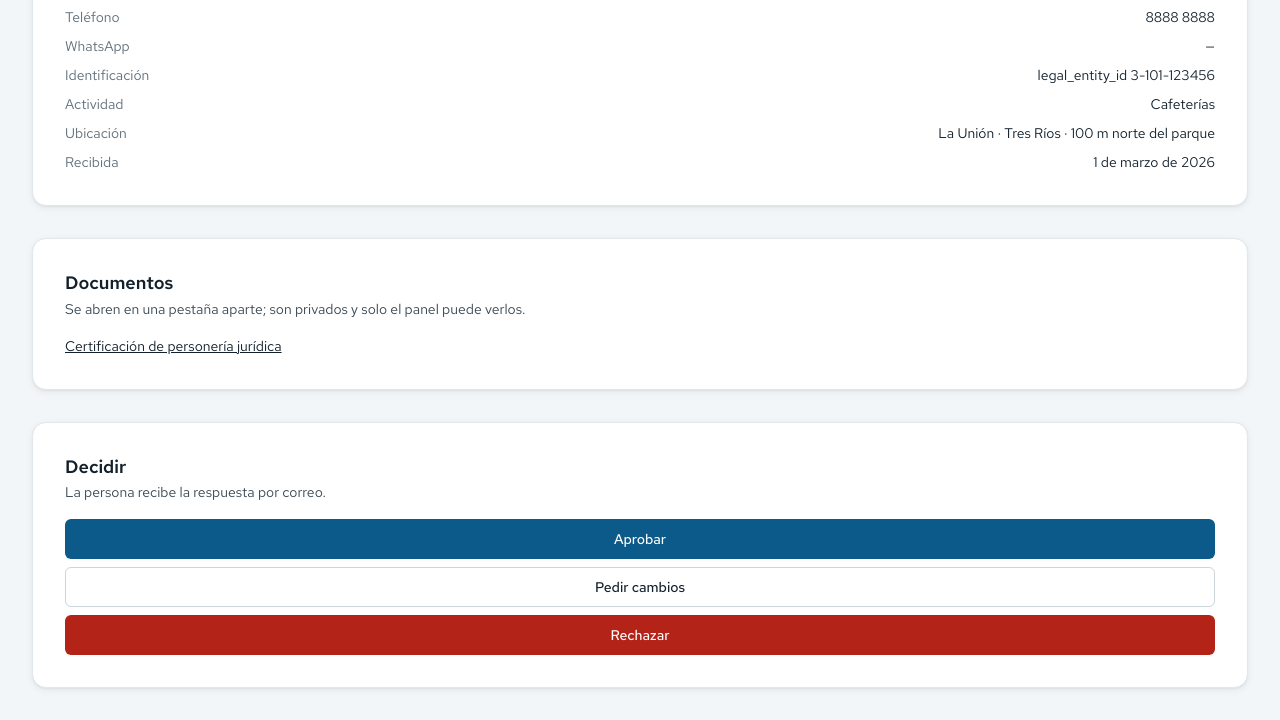
Scenario: ApplicationDetailPage › approving asks first, then says what was decided
(page scrolled)
Click the button "Aprobar" at (640,539), box 65,519 -> 1215,559
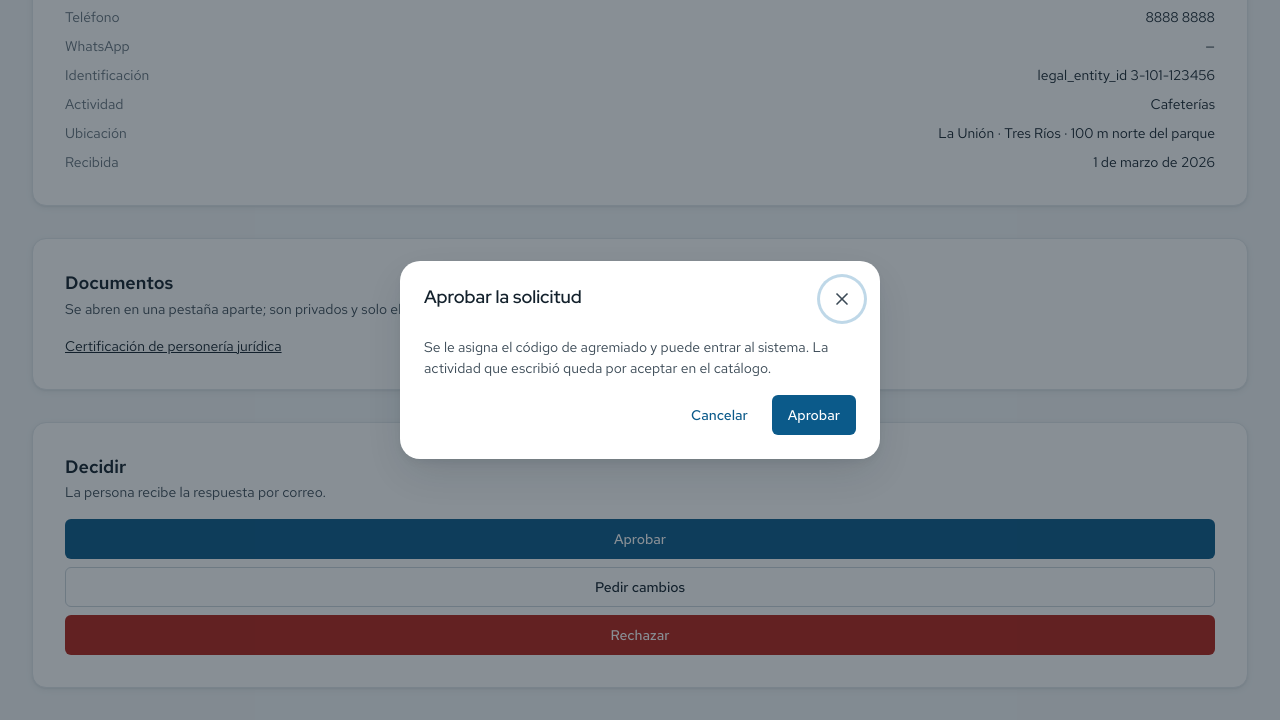
Click the button "Aprobar" at (814,415), box 772,395 -> 856,435
(page scrolled)
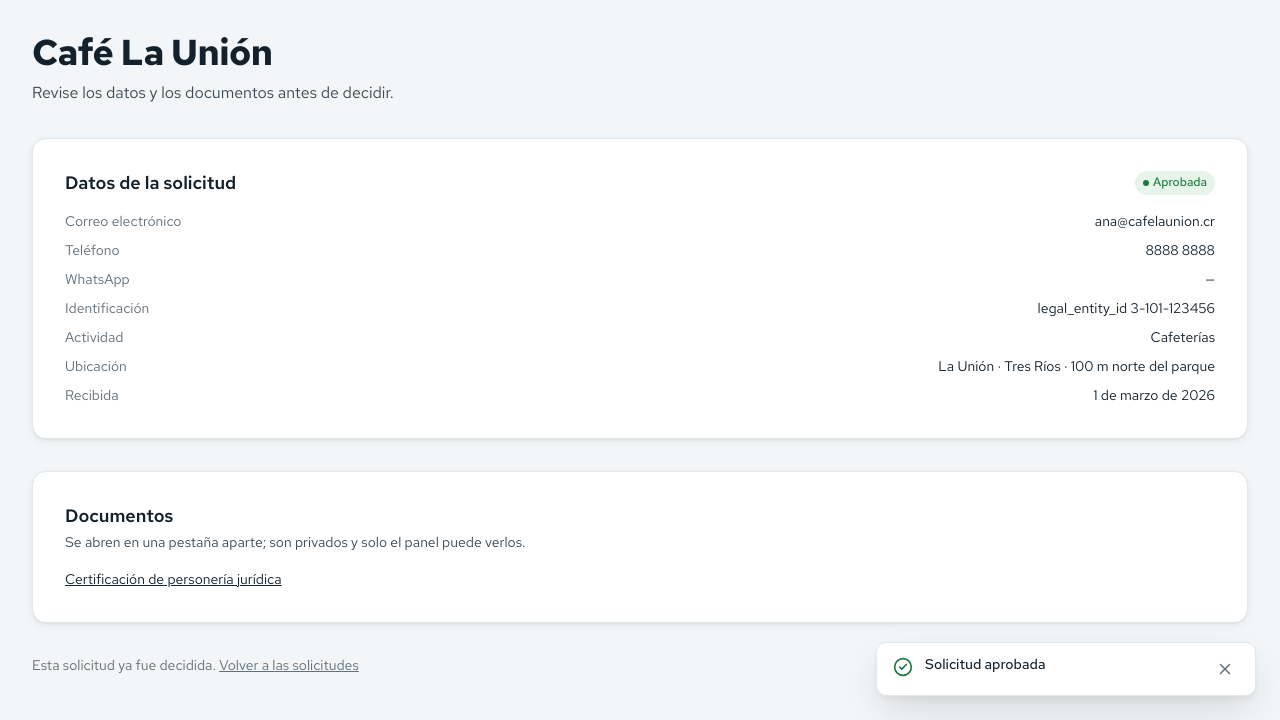
Result: the text "Solicitud aprobada" is shown at 925,655 -> 1046,673
Result: the text "Aprobada" is shown at 1153,175 -> 1207,191
